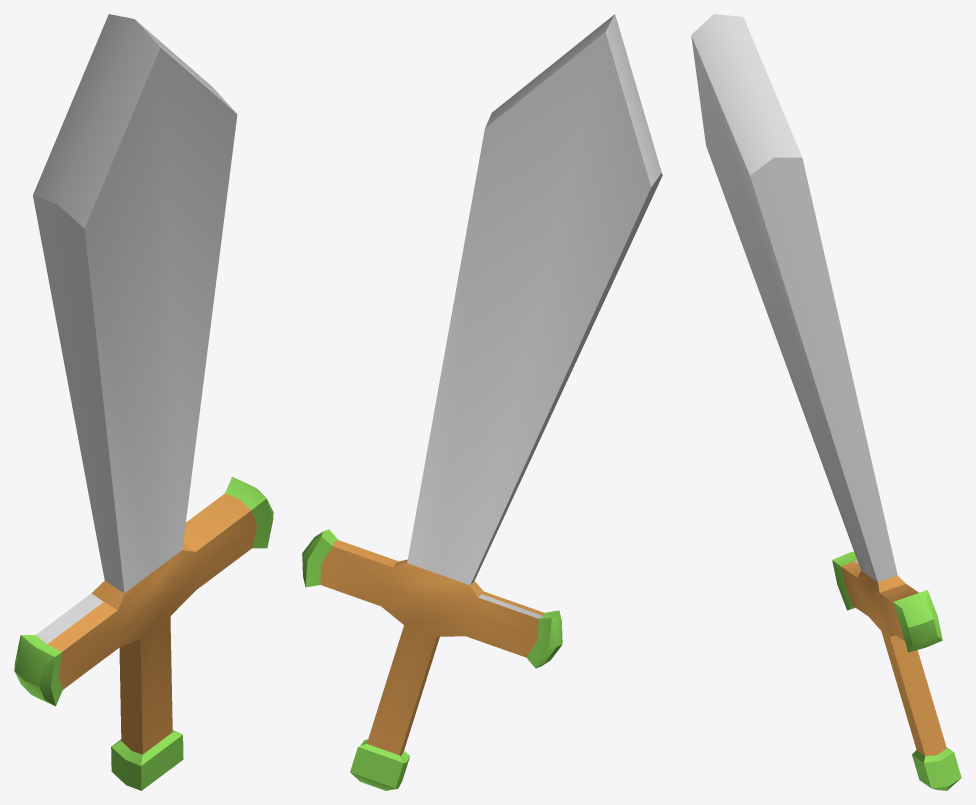
The model's file is Sword.fbx.
3 renders of one model, left to right at view 1: azimuth 30°, elevation 25°; view 2: azimuth 150°, elevation 25°; view 3: azimuth 270°, elevation 25°, orthographic. The views are drawn at different scales.
Parts seen in each view (by area): view 1: SwordItem; view 2: SwordItem; view 3: SwordItem.
Boxes of the visible parts, box(x1,y1,x2,y2) form: SwordItem: box(14, 14, 273, 790); SwordItem: box(302, 14, 662, 790); SwordItem: box(691, 14, 961, 790).
Bounding box in the file's own units: 53.93 × 139 × 47.53.
